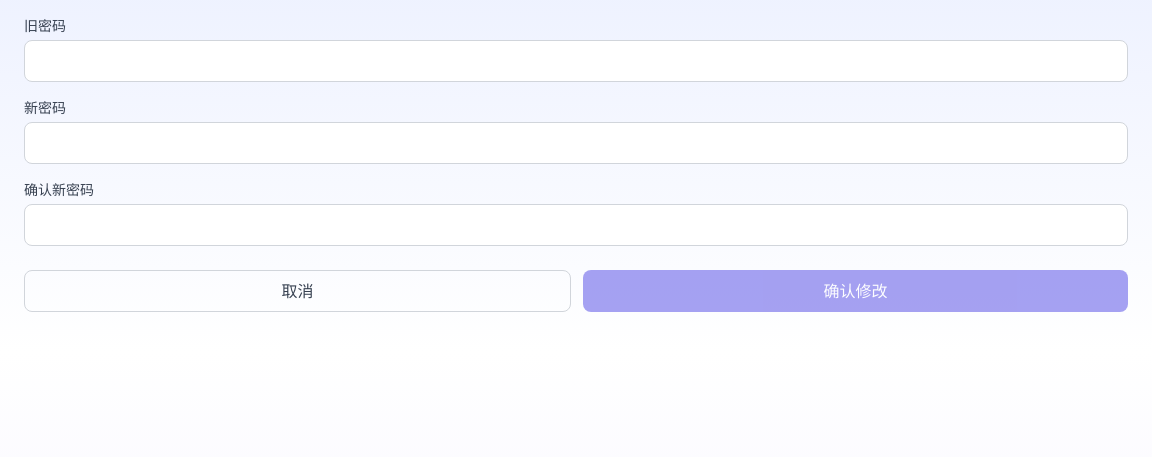
Test: ChangePassword › REQ-AUTH-009: shows success message when password changed
// Fill in the form
Type "OldPassword123" into the password field labelled "旧密码" at point(576, 61), box left=24, top=40, right=1128, bottom=82
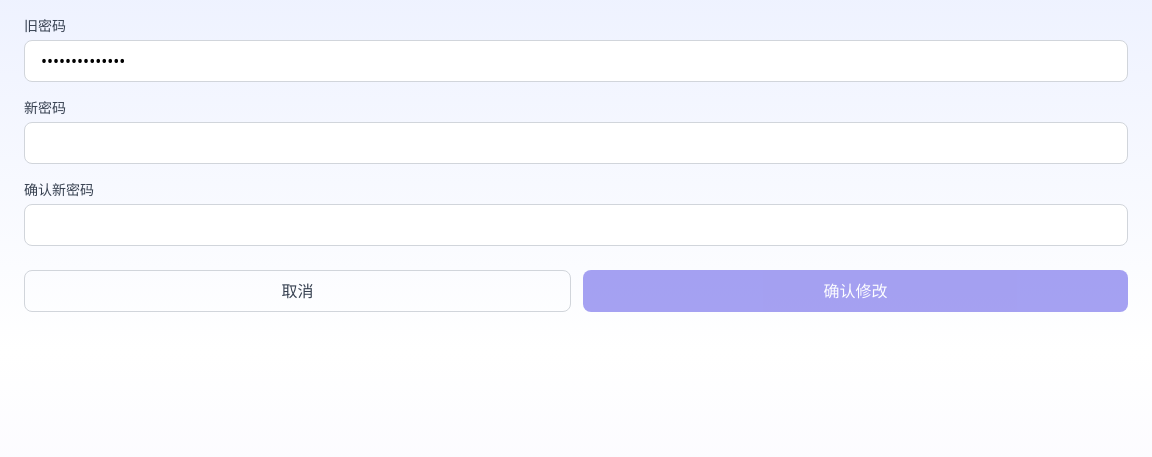
Type "NewPassword456" into the password field labelled "新密码" at point(576, 143), box left=24, top=122, right=1128, bottom=164
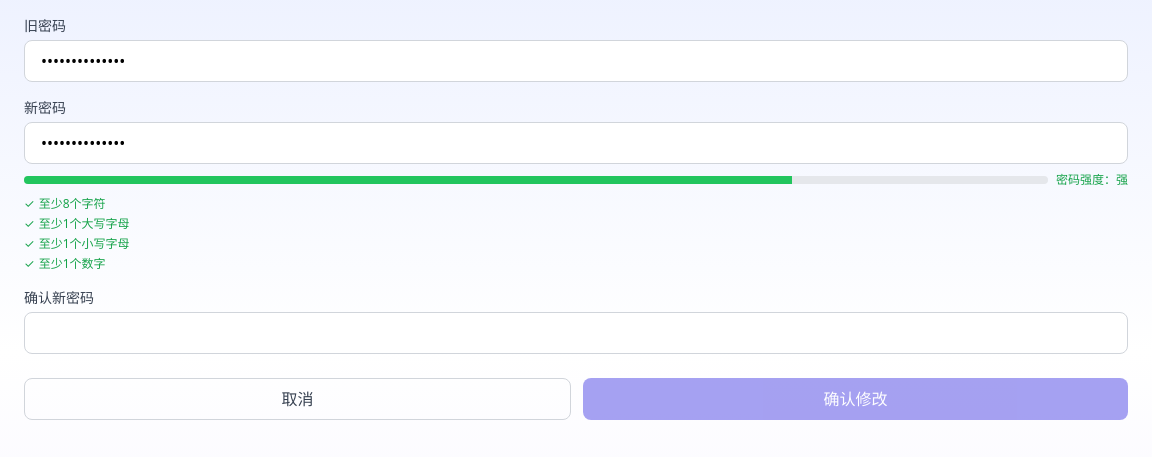
Type "NewPassword456" into the password field labelled "确认新密码" at point(576, 333), box left=24, top=312, right=1128, bottom=354
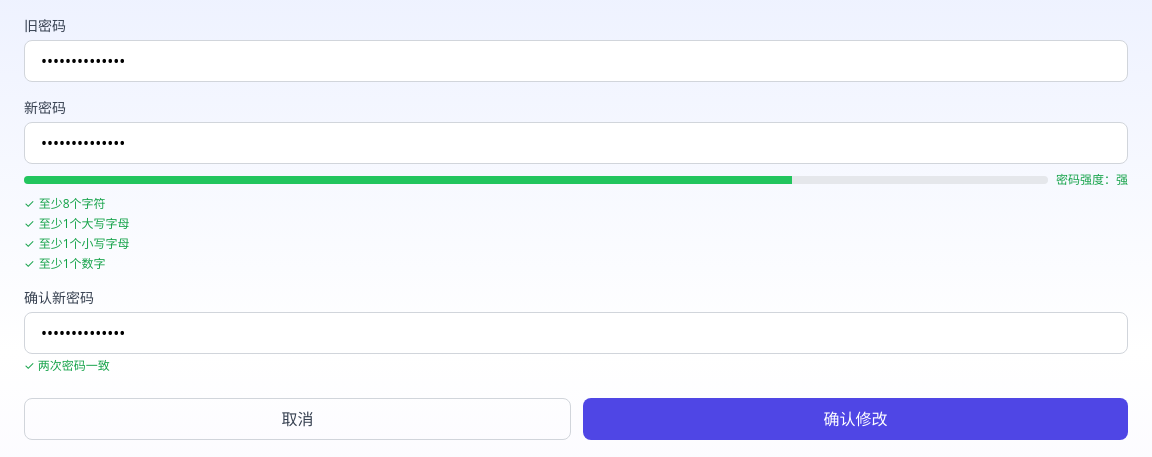
Click the button "确认修改" at point(856, 419), box left=583, top=398, right=1128, bottom=440
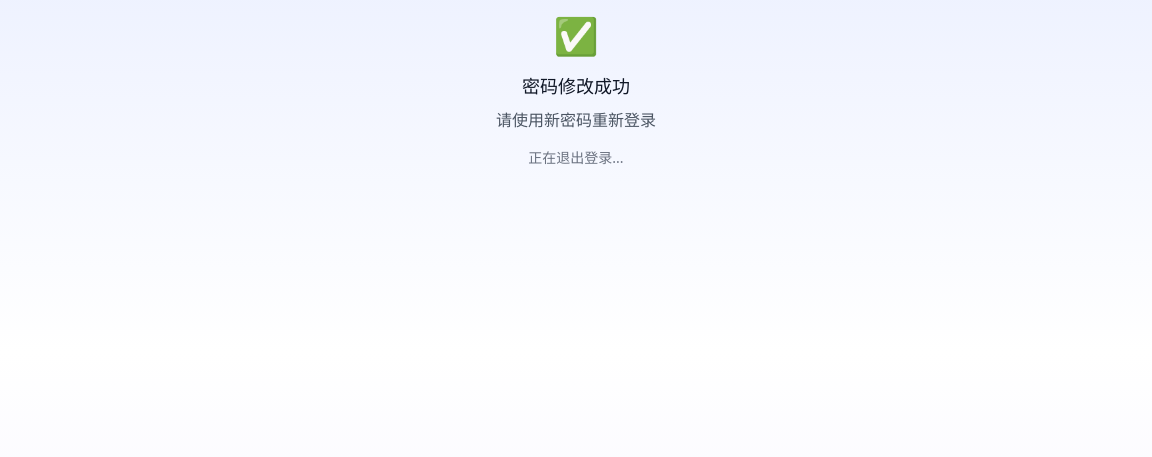
Check: the heading "密码修改成功" is shown, box left=522, top=74, right=630, bottom=98
